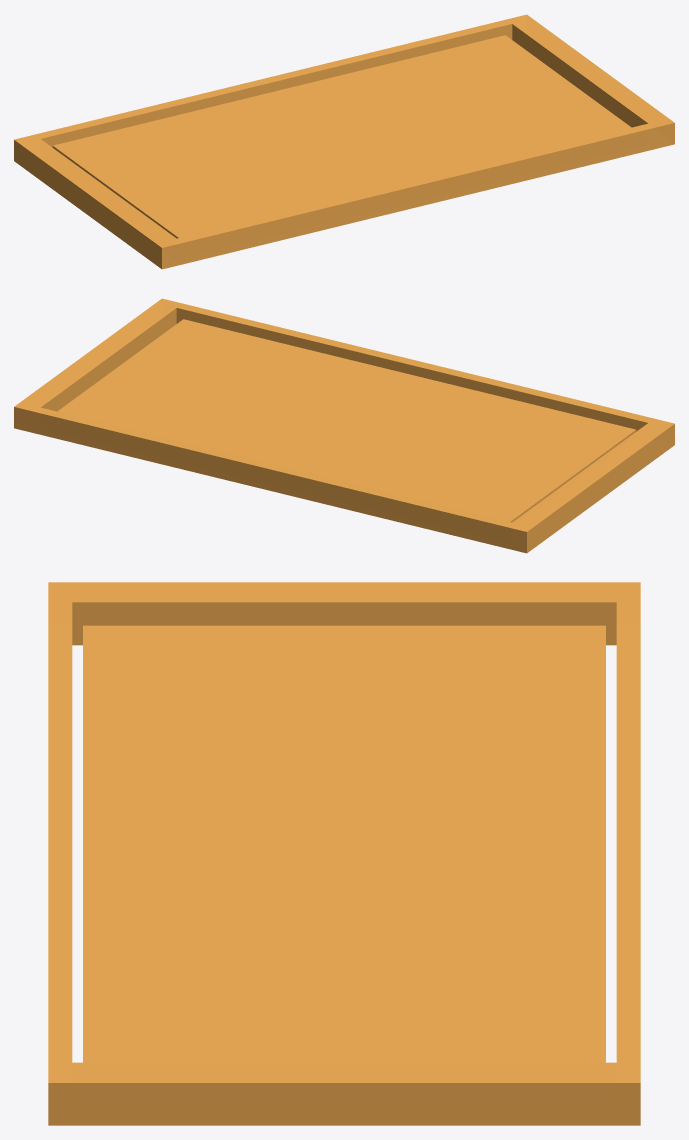
Rendered from tile-rect-red.glb.
The picture shows the model from 3 angles, top to bottom: view 1: azimuth 30°, elevation 25°; view 2: azimuth 150°, elevation 25°; view 3: azimuth 270°, elevation 25°; orthographic projection. The views are drawn at different scales.
Parts seen in each view (by area): view 1: tile; view 2: tile; view 3: tile.
Boxes of the visible parts, <box> form: tile: <box>14,14,674,269</box>; tile: <box>14,298,674,553</box>; tile: <box>48,582,640,1125</box>.
Bounding box in the file's own units: 2 × 0.08 × 1.
